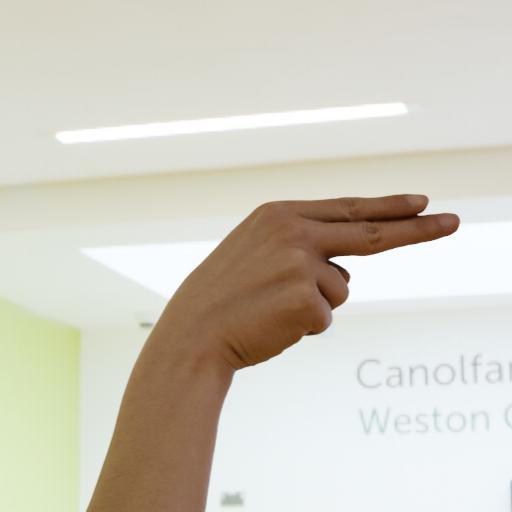H: (84, 134, 455, 512)
